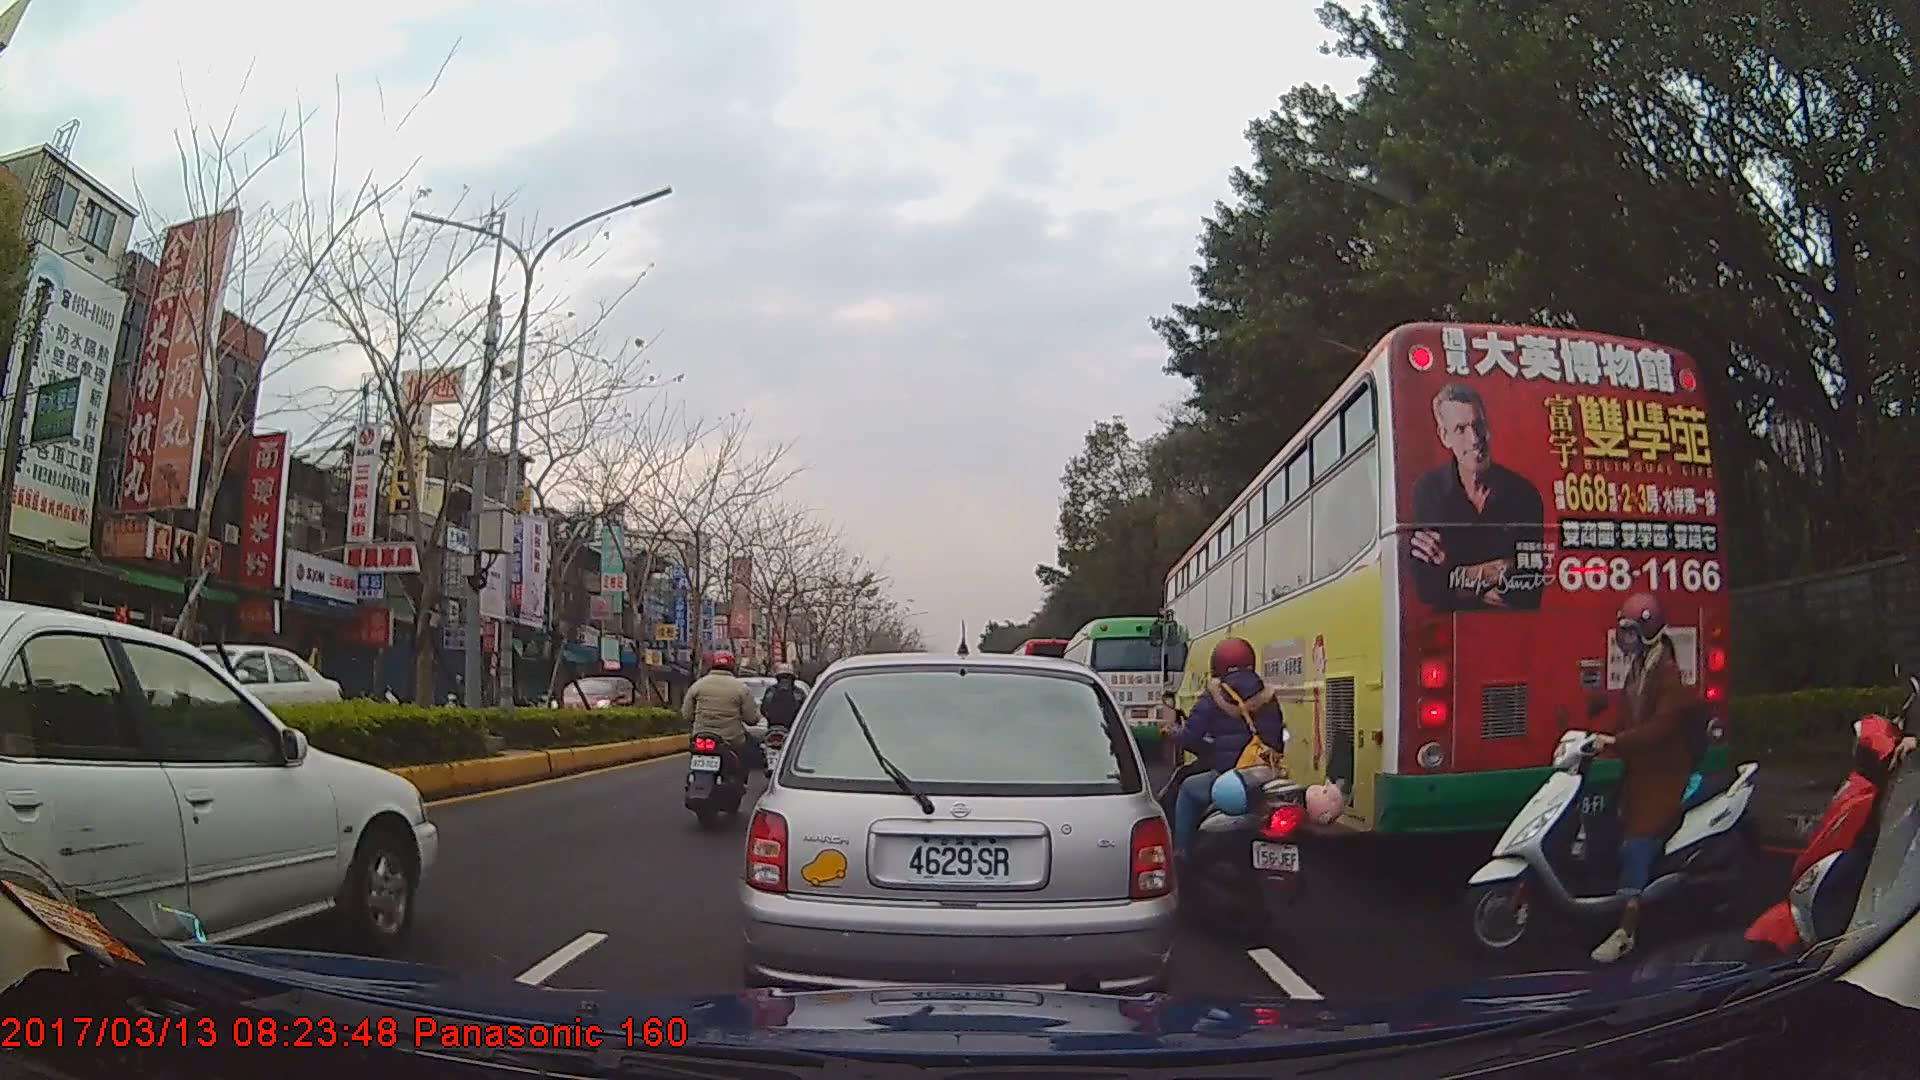rider: (1460, 591, 1757, 958), (1746, 541, 1920, 1006), (1147, 639, 1345, 947), (679, 650, 760, 828), (761, 663, 810, 768)
vehicle: (1159, 319, 1730, 846), (0, 589, 439, 963), (738, 651, 1178, 1001), (111, 635, 351, 743), (1060, 615, 1172, 761), (548, 673, 641, 732)
